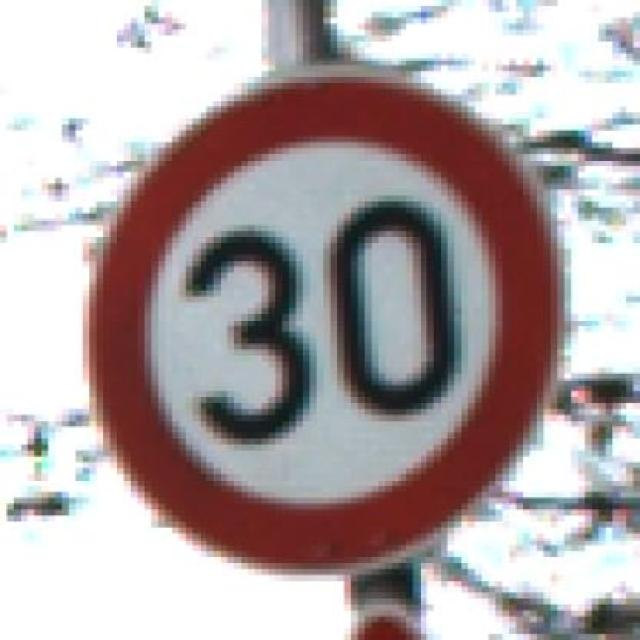Speed Limit 30 KMPh: (41, 36, 572, 582)
